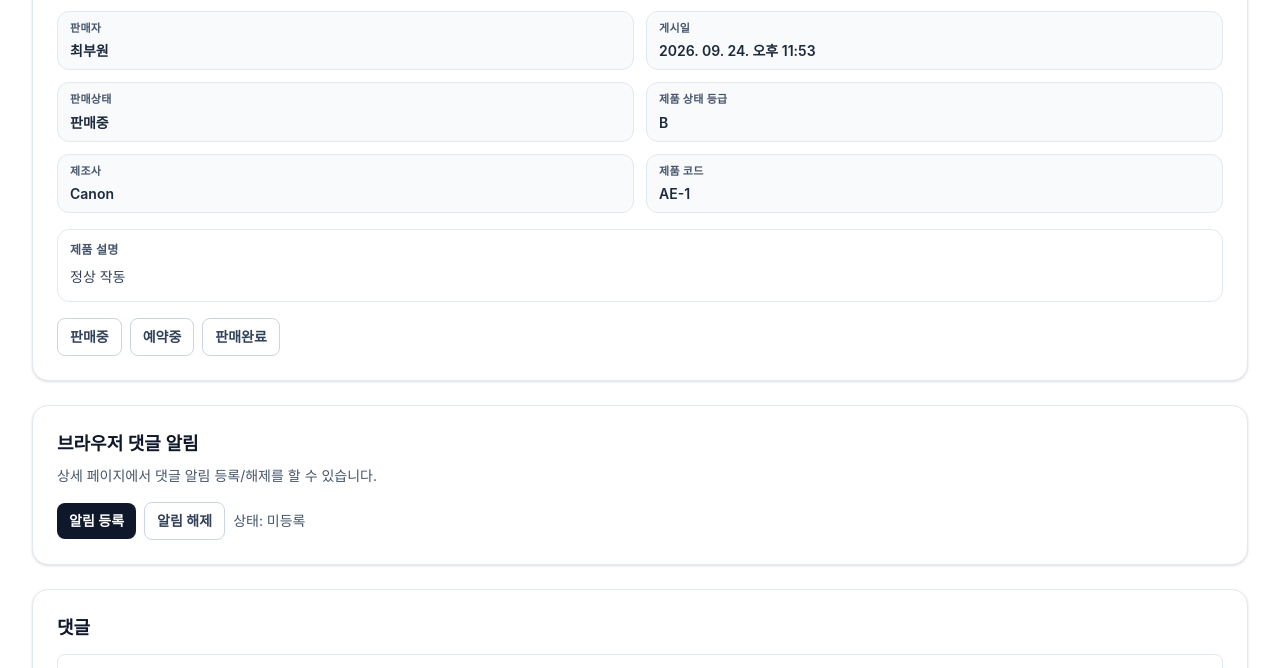
MarketItemDetailPageClient › updates item status and creates comments
(page scrolled)
Click the button with test id "market-status-reserved": point(162, 337) [130,318,194,356]
(page scrolled)
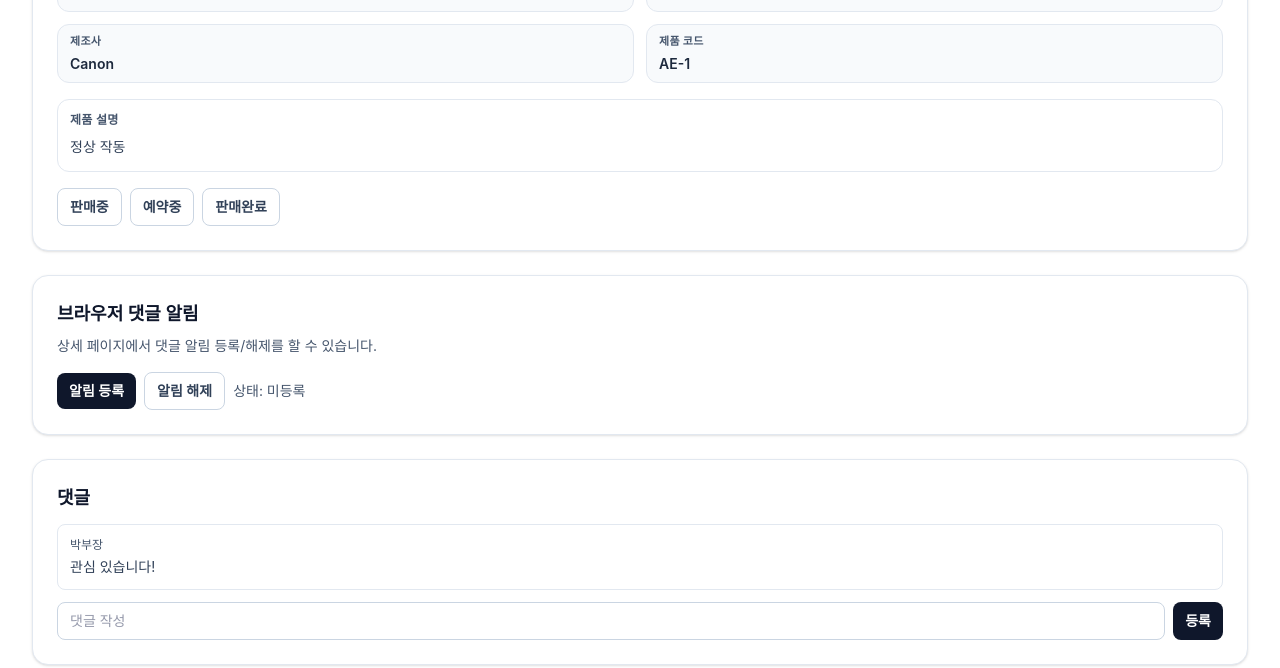
In the field with placeholder "댓글 작성": point(611, 621) [57,602,1165,640], type "채팅 주세요"
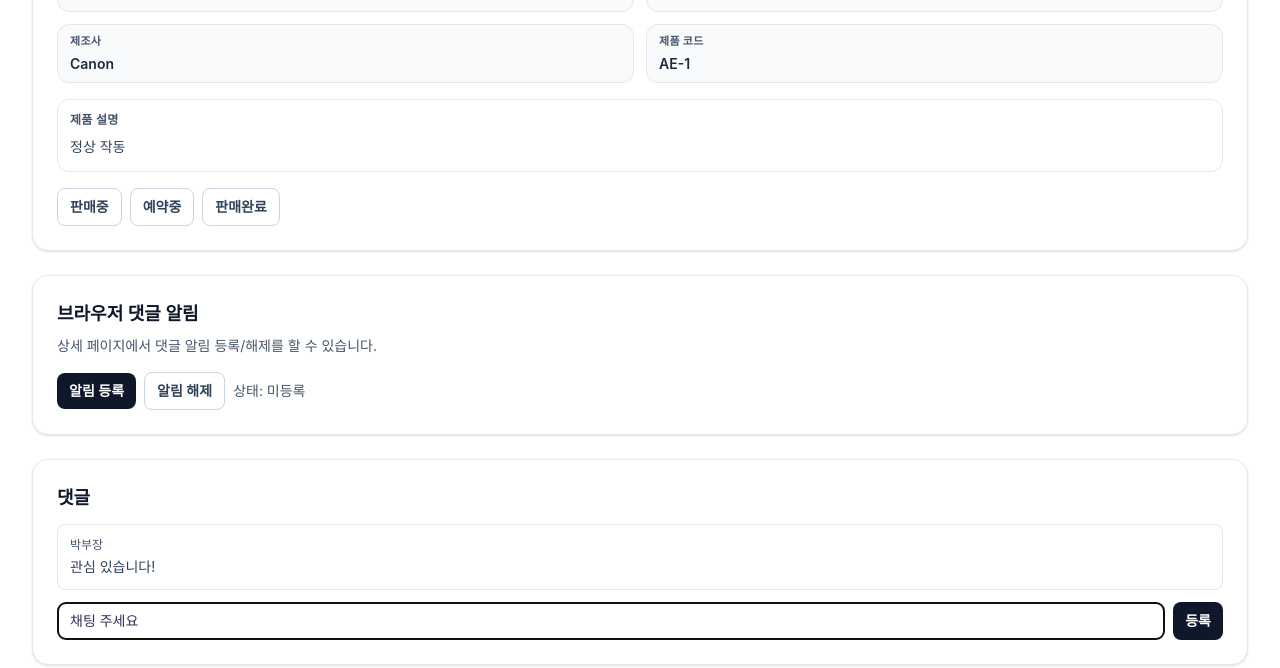
Click the button with test id "market-comment-submit": point(1198, 621) [1173,602,1223,640]
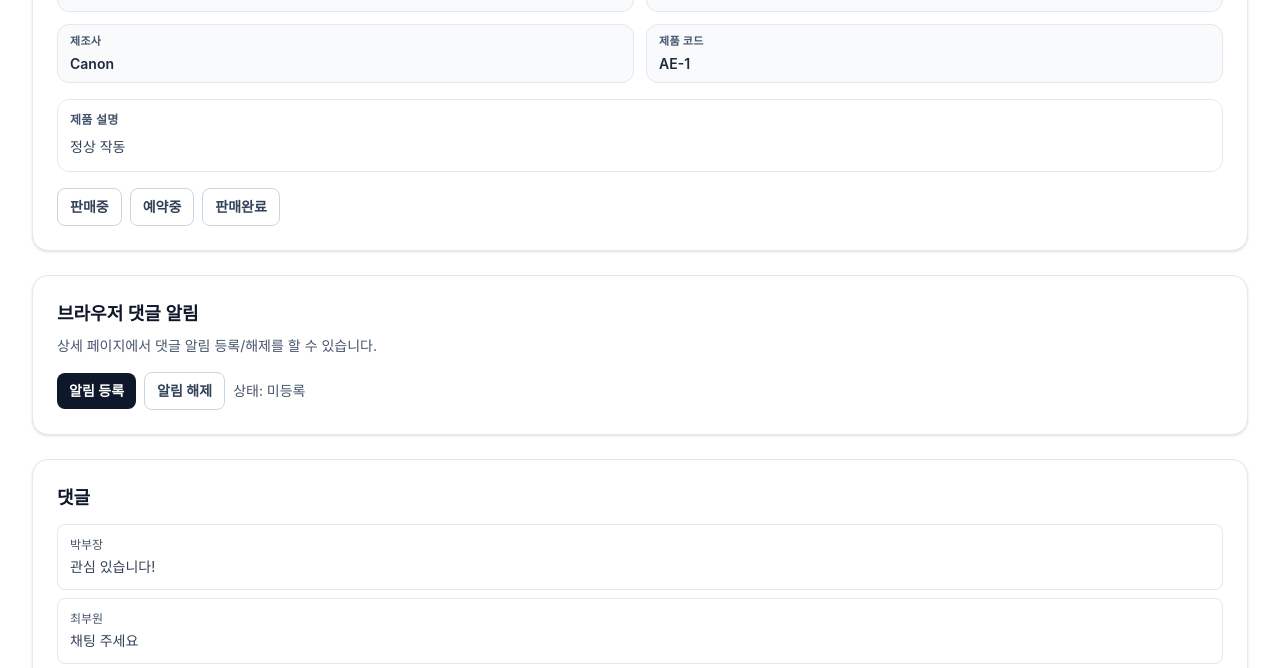
Now the text "채팅 주세요" is shown, box [70,632,138,649]
